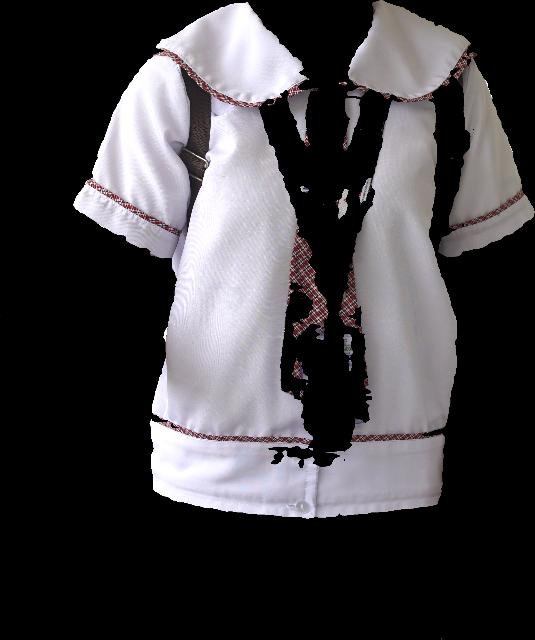pologirl: (74, 0, 534, 518)
